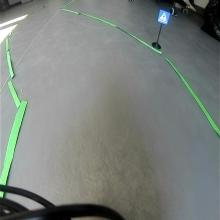crosswalk: (158, 9, 170, 26)
